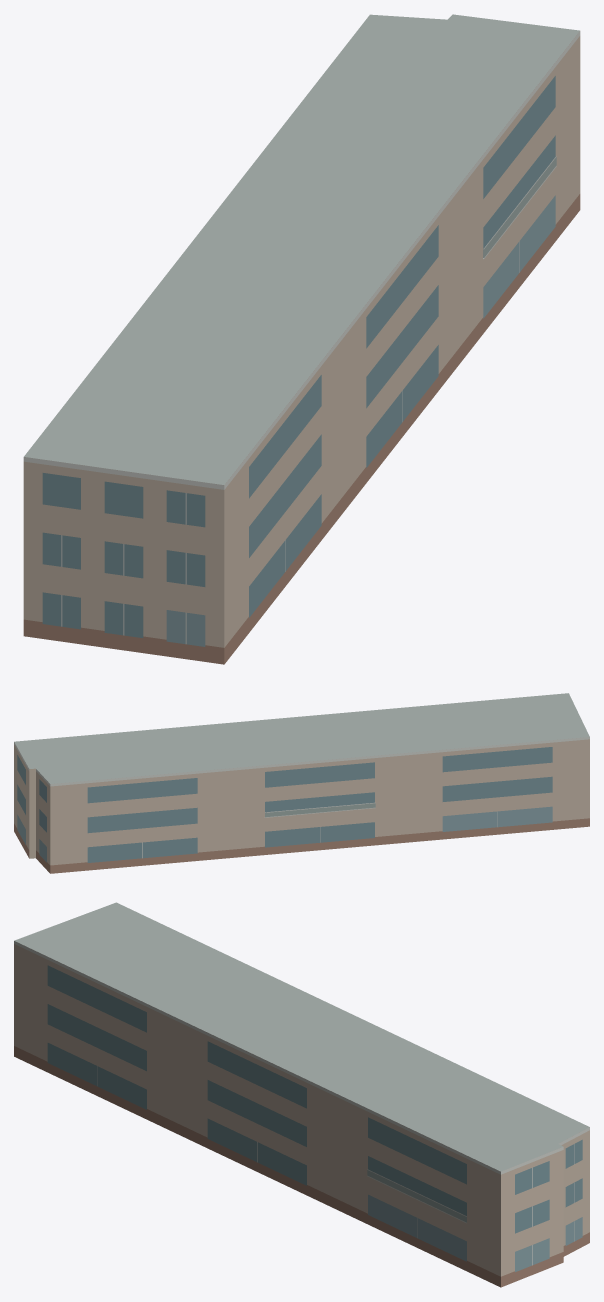
File: survey-upis-32966316.glb
3 renders of one model, top to bottom at view 1: azimuth 30°, elevation 25°; view 2: azimuth 150°, elevation 25°; view 3: azimuth 270°, elevation 25°, orthographic. The views are drawn at different scales.
Visible parts, largest first — view 1: survey-upis-32966316.tmp; view 2: survey-upis-32966316.tmp; view 3: survey-upis-32966316.tmp.
Boxes of the visible parts, x1,y1,x2,y2 form: survey-upis-32966316.tmp: (23,14,580,664); survey-upis-32966316.tmp: (14,693,589,873); survey-upis-32966316.tmp: (14,902,589,1287).
Bounding box in the file's own units: 45.6 × 9.15 × 41.22.
